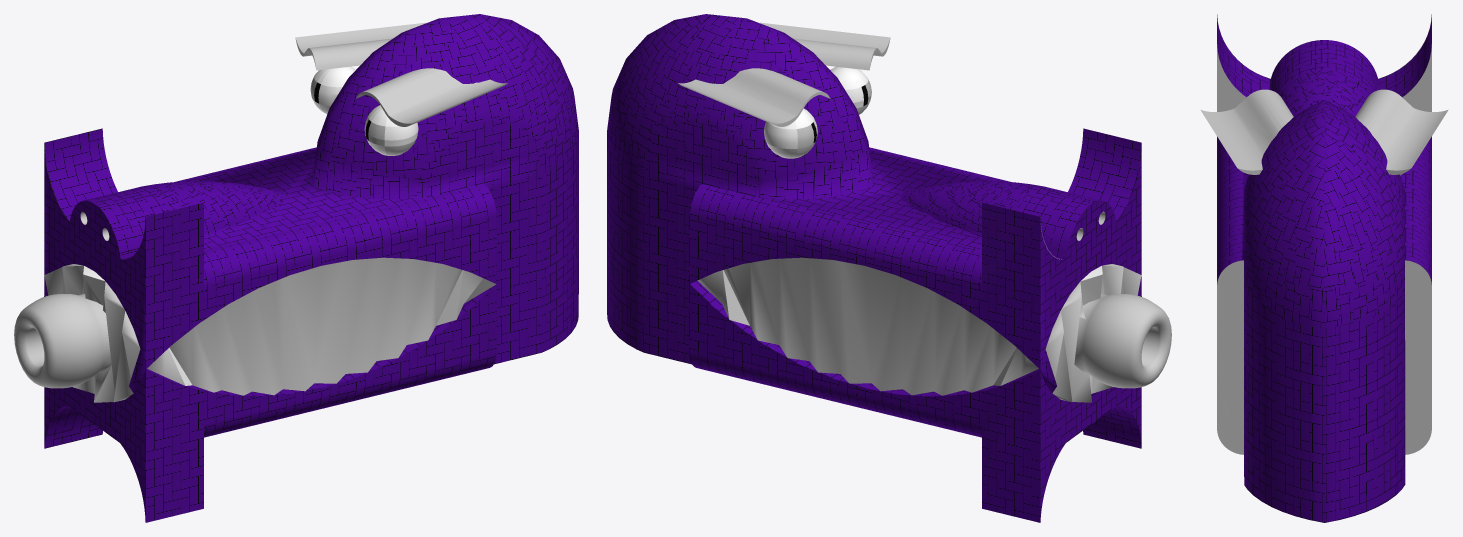
The model's file is NewSnout2.dae.
3 renders of one model, left to right at view 1: azimuth 30°, elevation 25°; view 2: azimuth 150°, elevation 25°; view 3: azimuth 270°, elevation 25°, orthographic. The views are drawn at different scales.
Parts seen in each view (by area): view 1: SketchUp (×9); view 2: SketchUp (×8); view 3: SketchUp (×7).
Boxes of the visible parts, x1,y1,x2,y2 form: SketchUp (×9): (14,14,578,522); SketchUp (×8): (607,14,1171,522); SketchUp (×7): (1200,14,1448,522).
Size of the model in its own units: 9.2 by 3.42 by 6.15.
